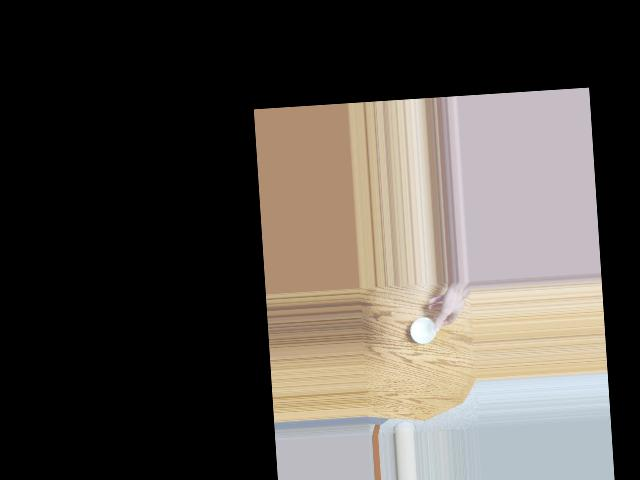cotage: (407, 313, 441, 347)
